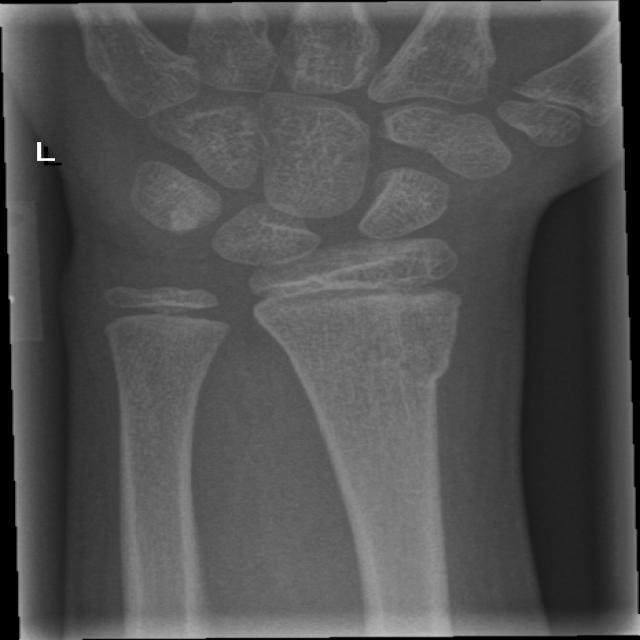radius fracture: (273, 338, 488, 458)
